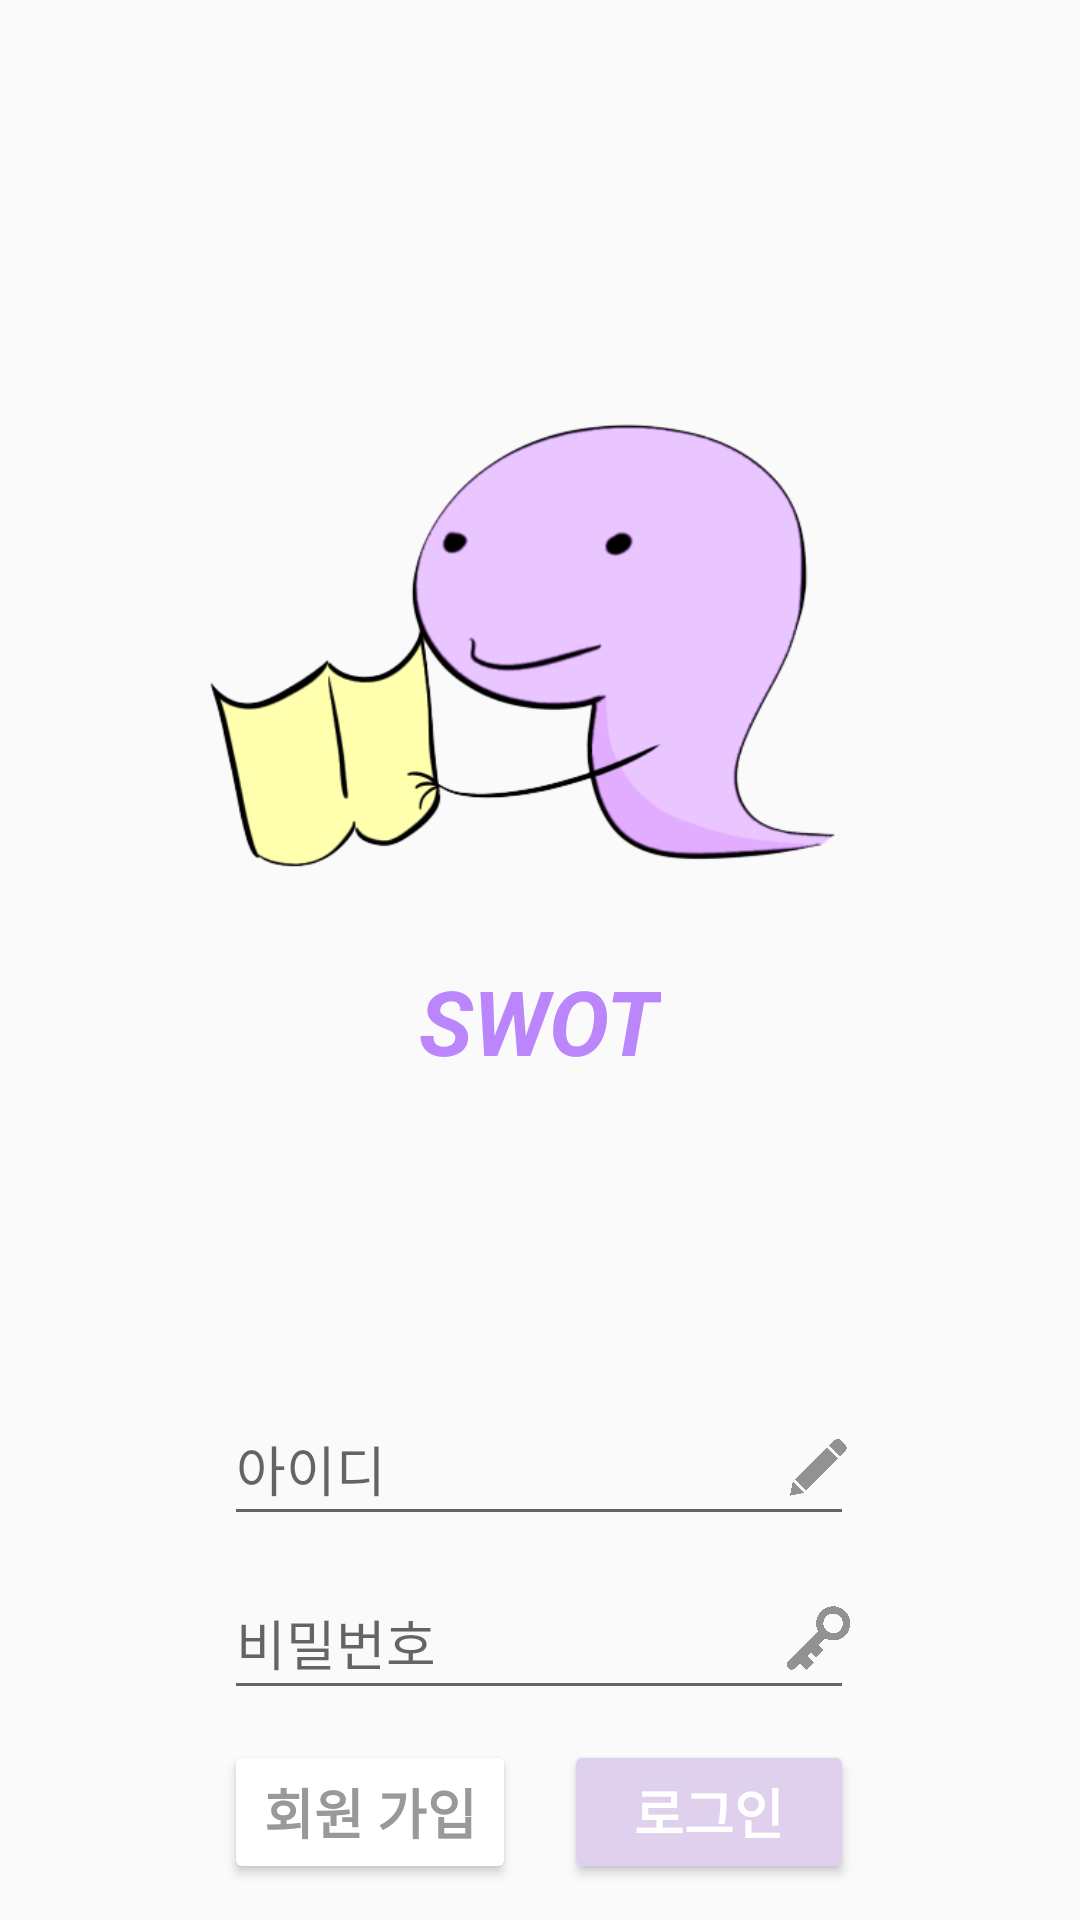

Icon click points for this 1080*1920 phone screenshot, format (x,y):
key: (818,1638)
pen: (818,1467)
